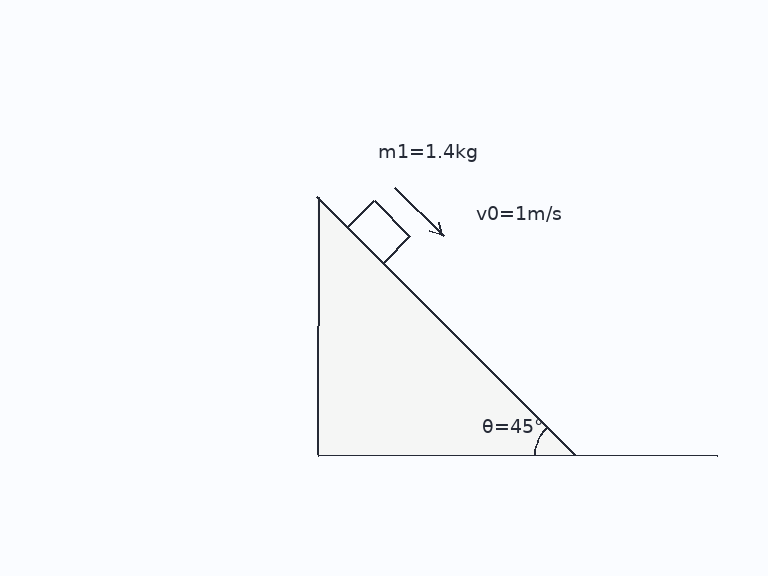block: (345, 198, 411, 265)
ramp: (316, 196, 577, 457)
